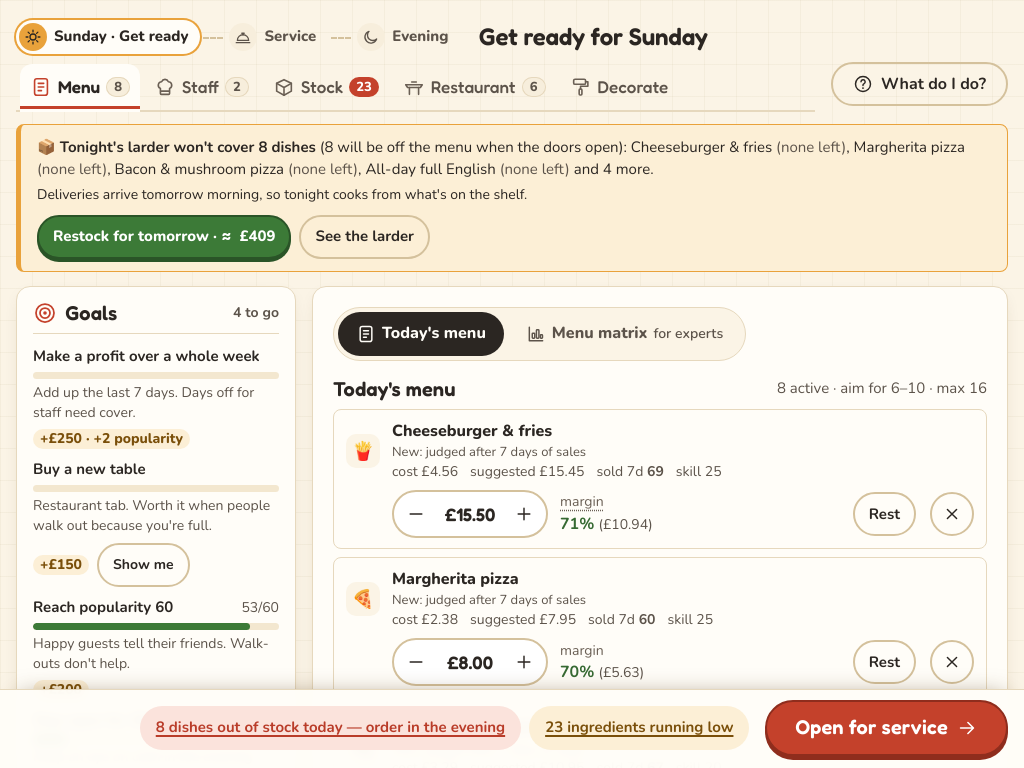
Test: Round 14 F — U5 nothing to cook › Open asks first when nothing on the menu can be cooked, and doesn't open
Click the button "Open for service".
click(887, 728)  # box [766,700,1008,756]
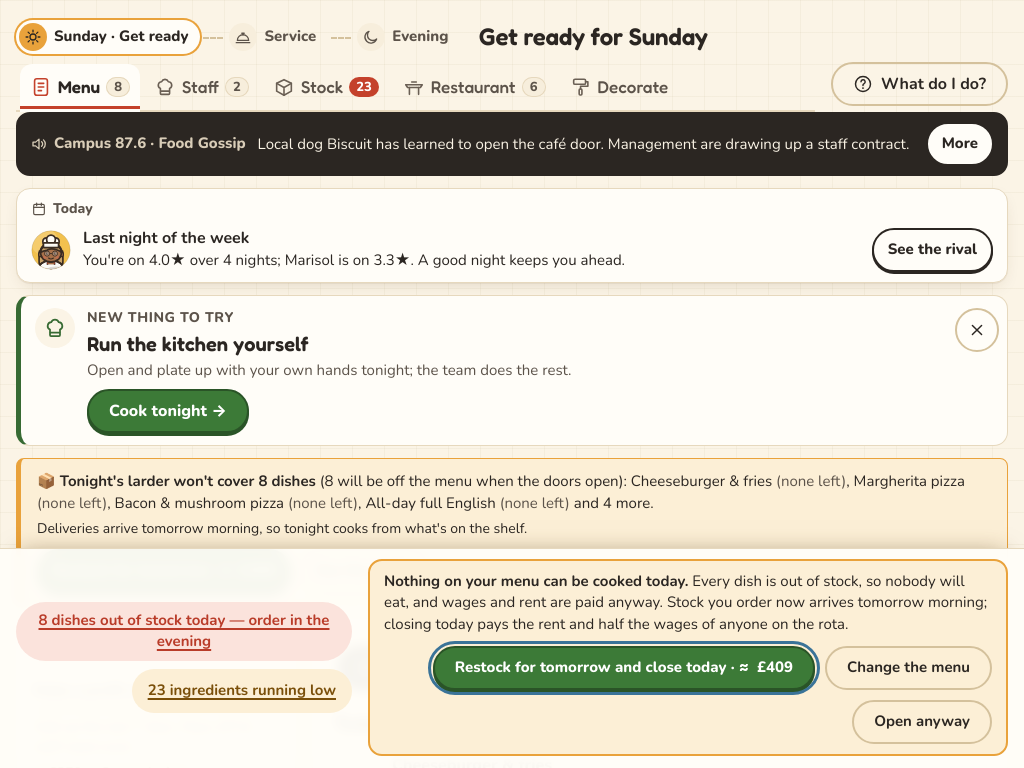
Check: the dialog with test id "confirm-nofood" shows "Nothing on your menu can be cooked today", box [384,571,688,591]
Check: the dialog with test id "confirm-nofood" shows "out of stock", box [384,571,965,613]
Check: the button "Open anyway" is shown, box [852,700,992,744]
